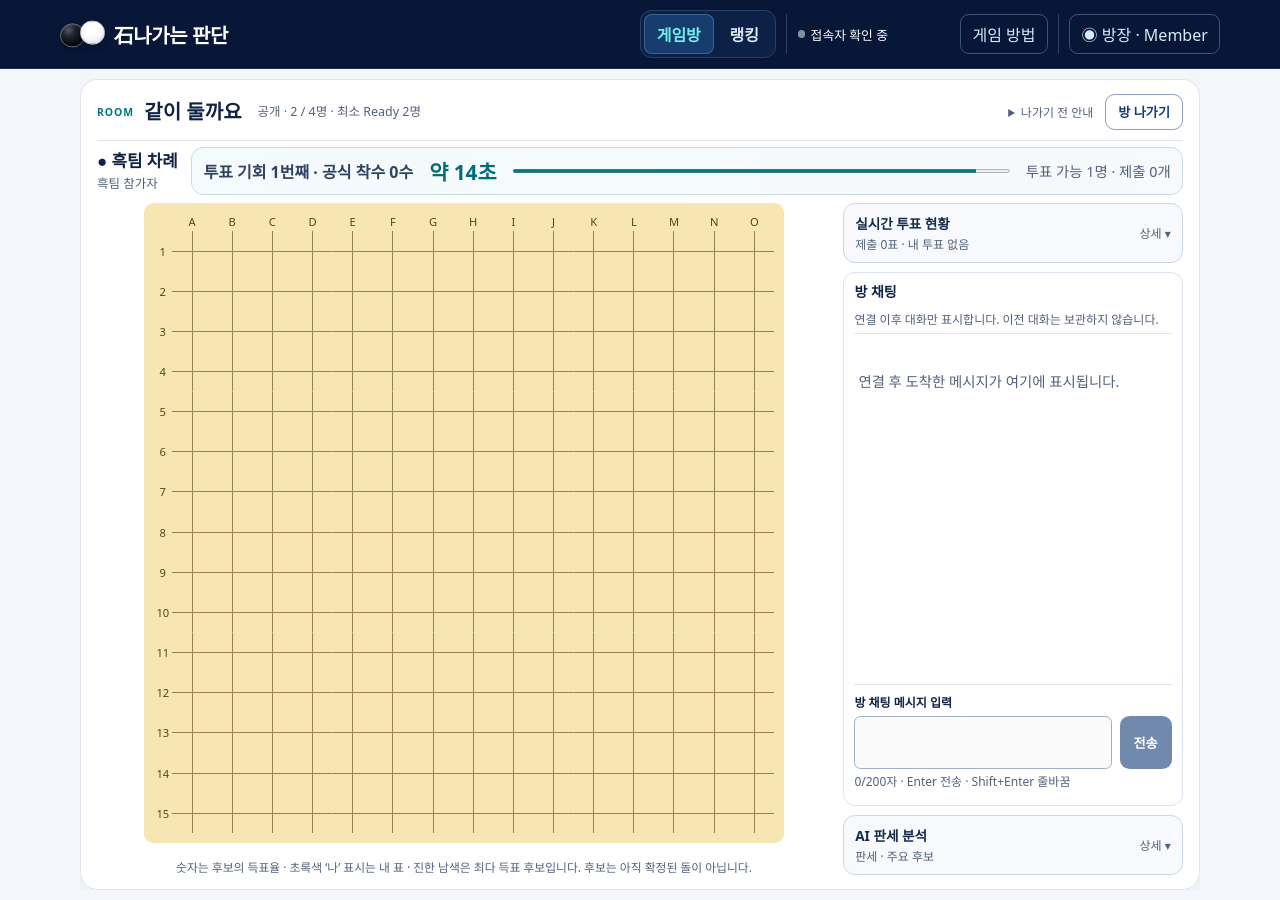
game screen flow › explains explicit leave and 10-second reconnect handoff
This screenshot has width=1280, height=900.
Click the button "게임 방법". click: click(1004, 34)
box: [960,14,1048,54]
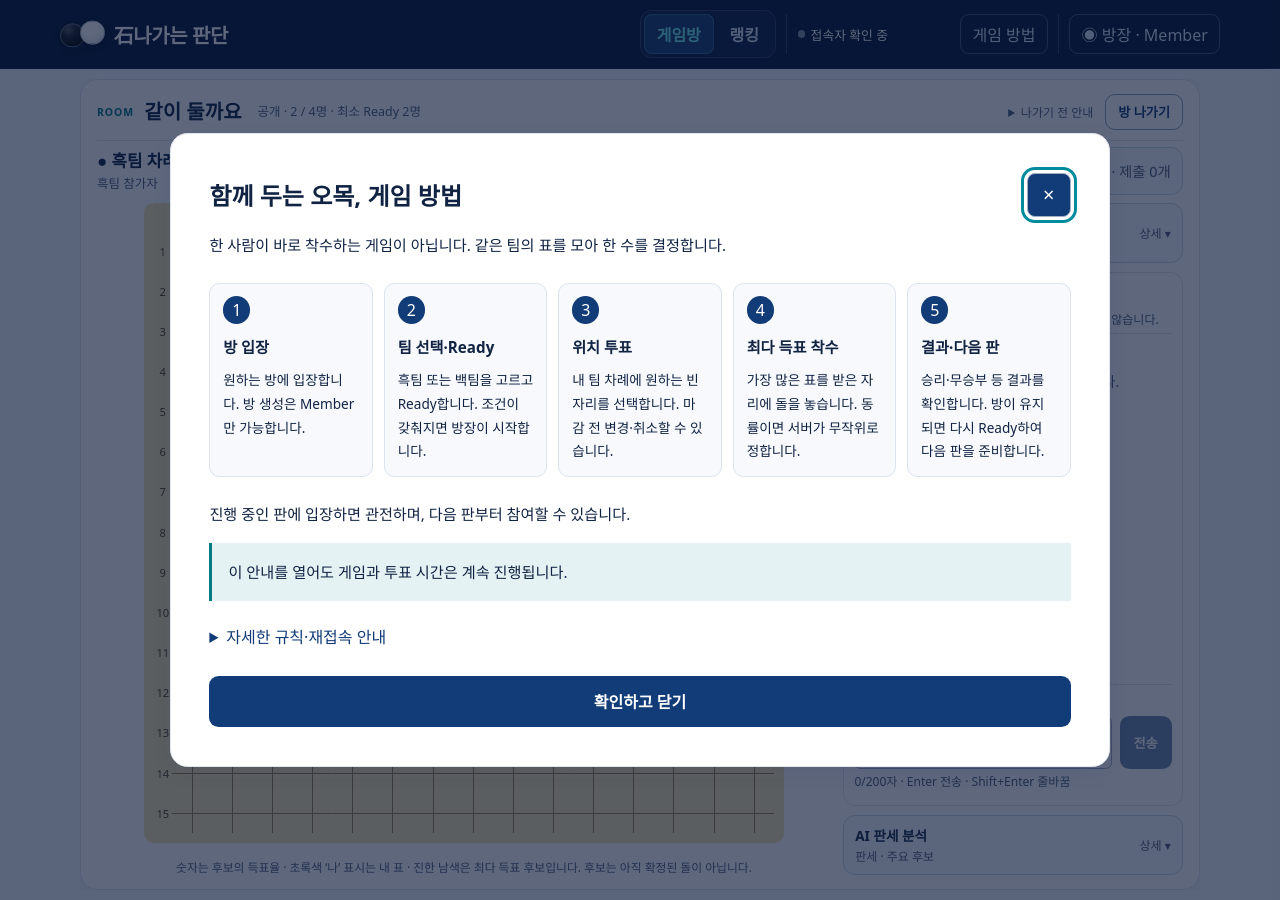
Click the heading "자세한 규칙·재접속 안내". click: click(306, 637)
box: [226,626,386,648]
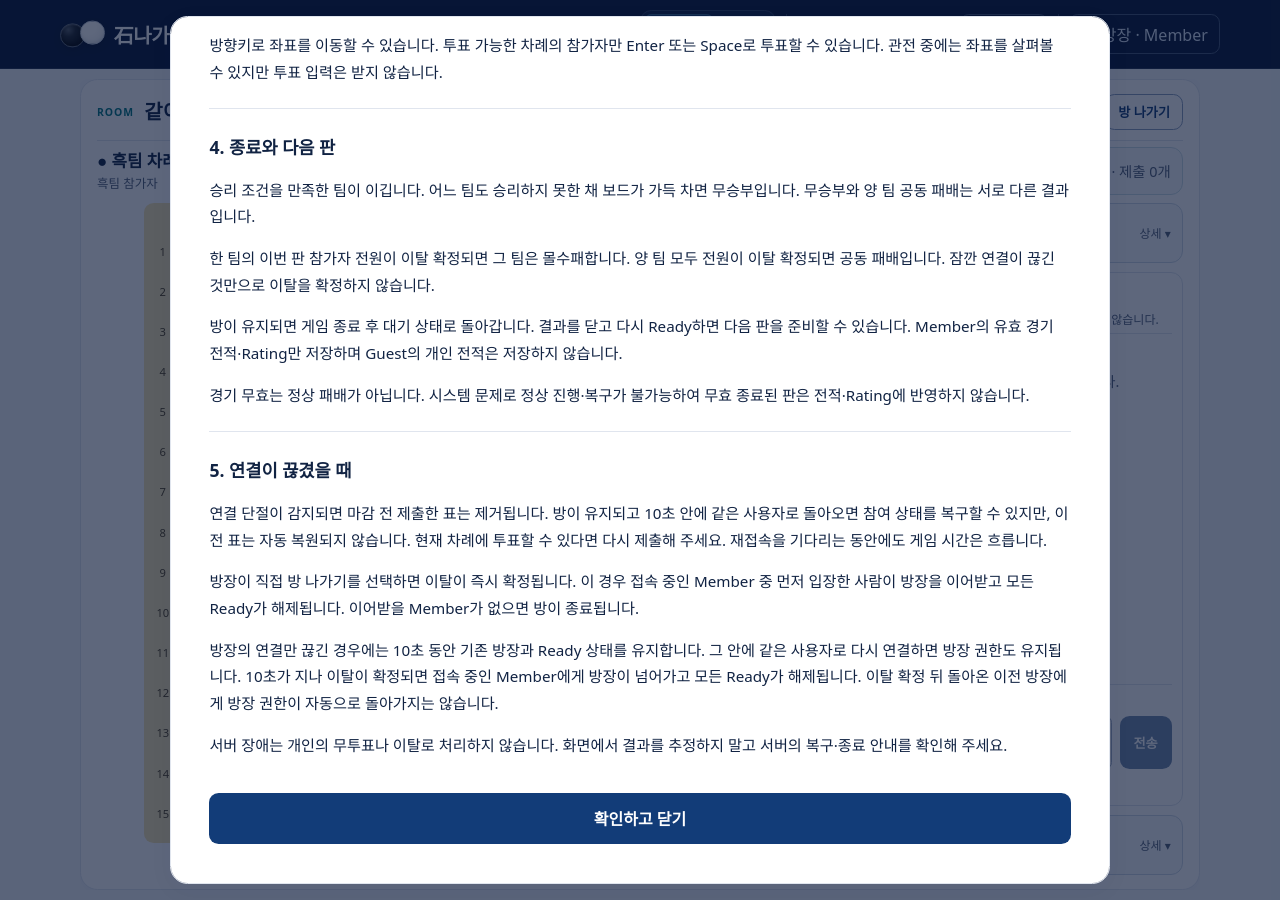
Check: the text "이전 표는 자동 복원되지 않습니다" is shown, box [209,503,1068,550]
Check: the text "직접 방 나가기를 선택하면 이탈이 즉시 확정" is shown, box [209,571,1034,618]
Check: the text "방장 권한이 자동으로 돌아가지는 않습니다" is shown, box [209,640,1067,713]
